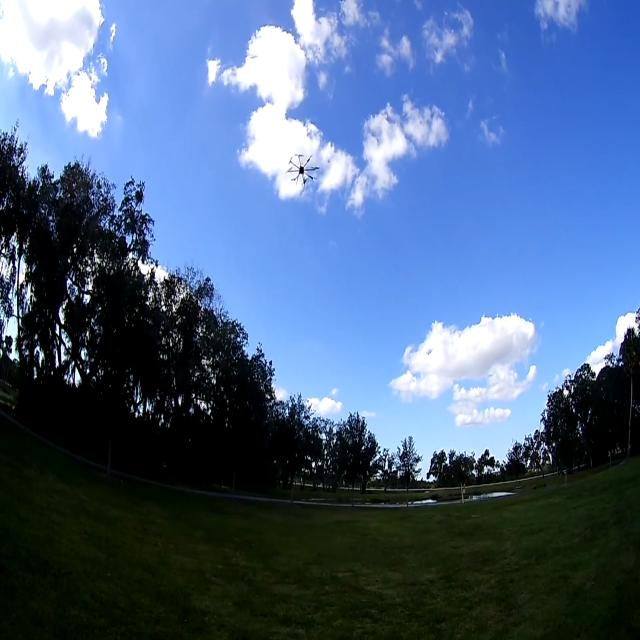drone: (283, 134, 327, 184)
